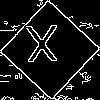X: (25, 25, 60, 72)
